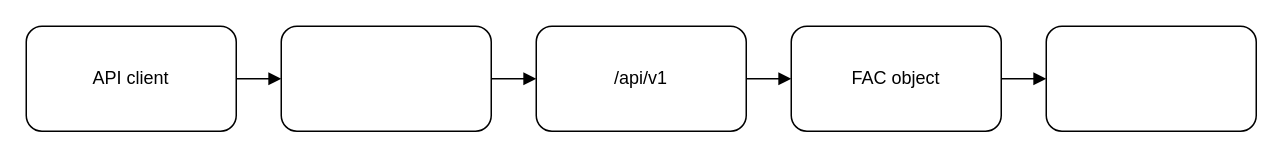
Image size: 1283x158. Some labels were removed from this diagram. The shapes that lost their labels are listed below. From the top down, each one's centre as x and y in pixels, then its label:
At (385,78): "TLS/auth".
At (1150,78): "Downstream service".
